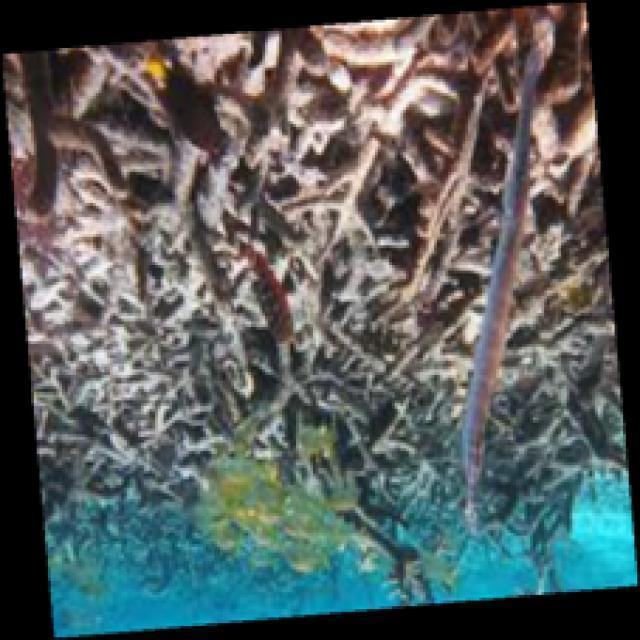Dead Coral: (80, 48, 563, 581)
